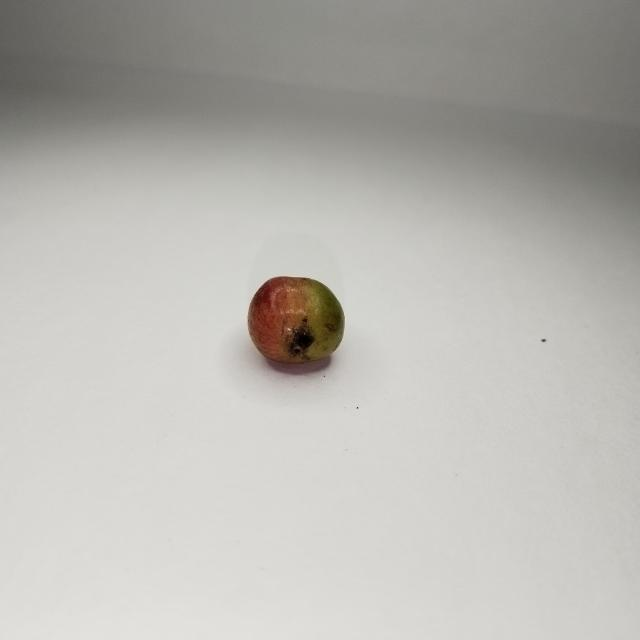Infectado: (248, 278, 345, 366)
